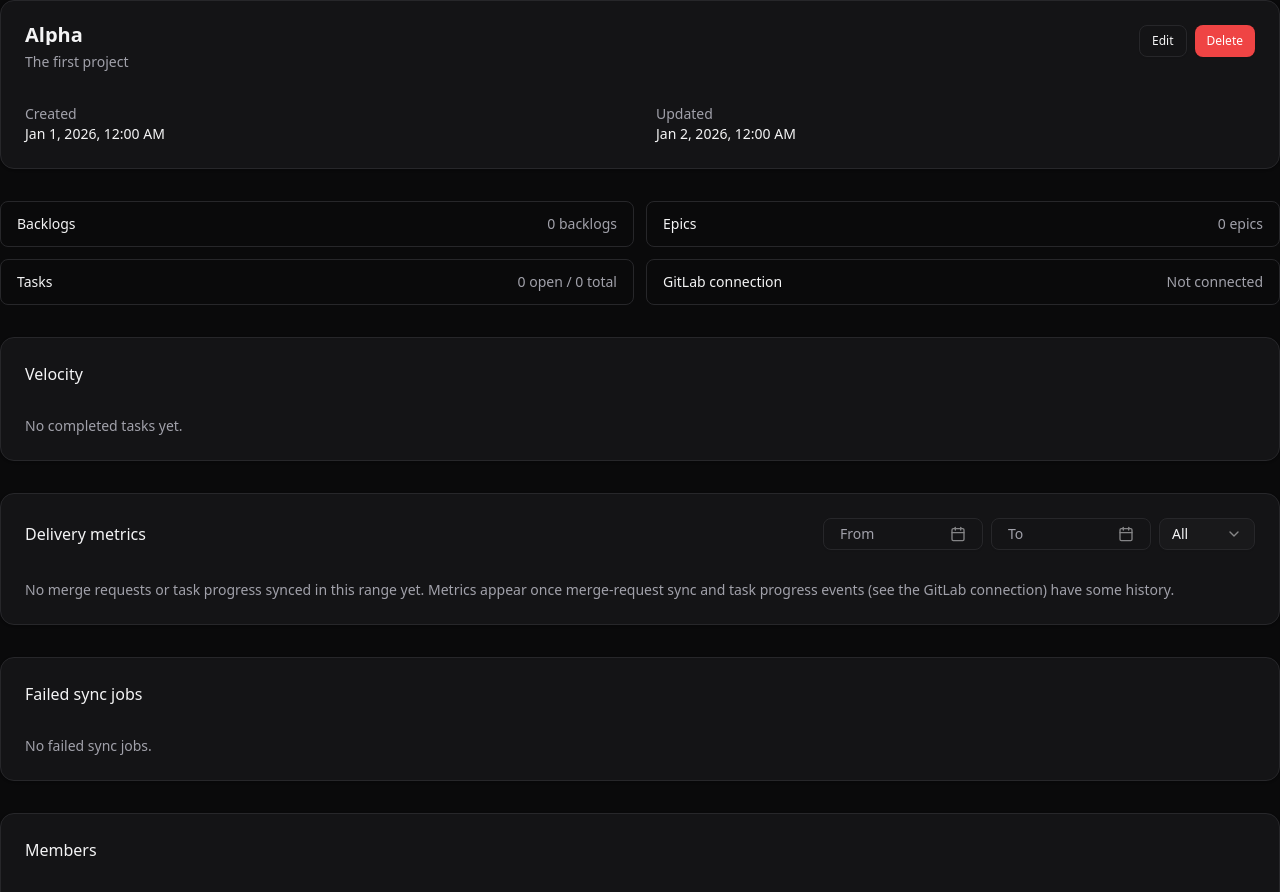
Scenario: ProjectDetail › switches to the edit form and shows saved changes
Click the button "Edit" at {"x": 1163, "y": 41}, box [1139,25,1186,57]
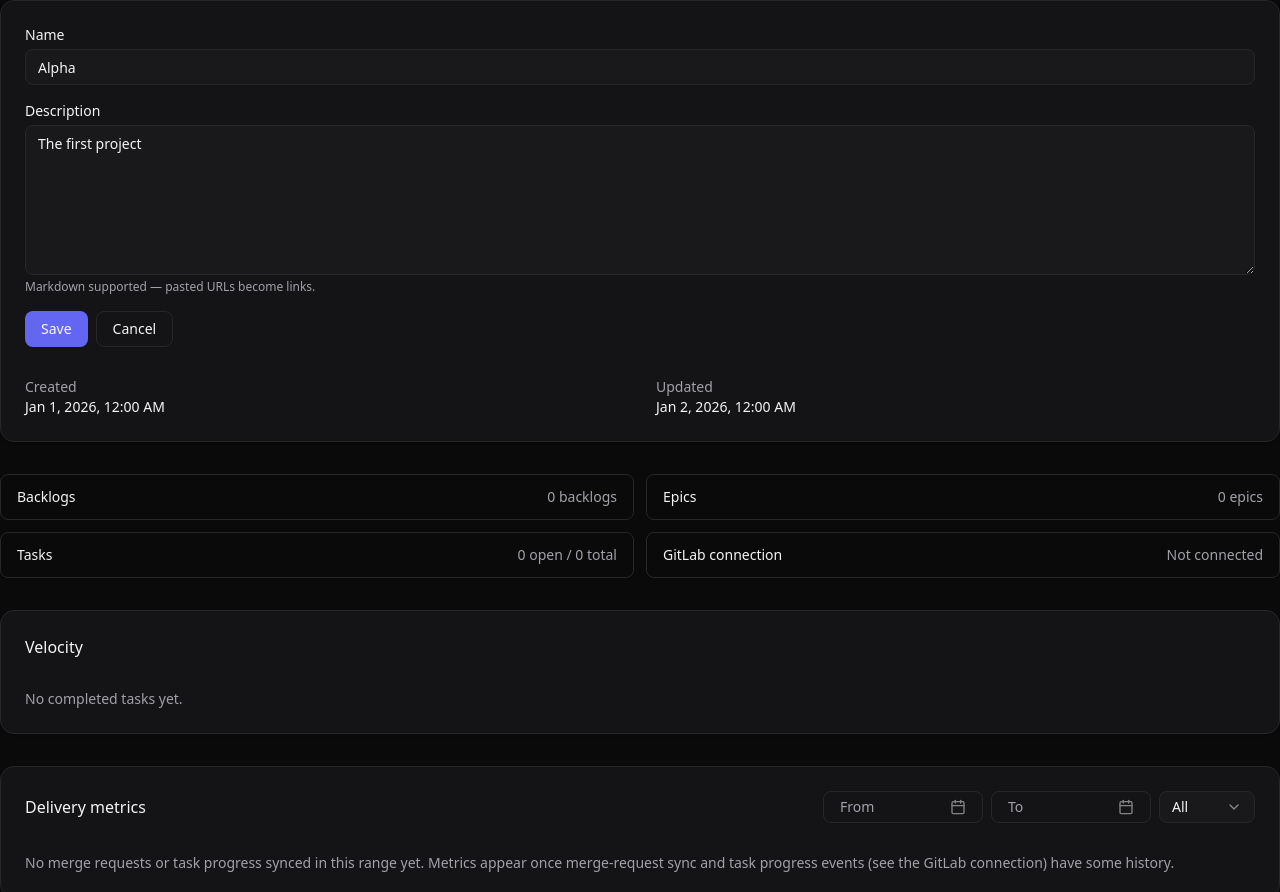
Replace the text in the field labelled "Name" with "Renamed" at {"x": 640, "y": 67}, box [25,49,1255,85]
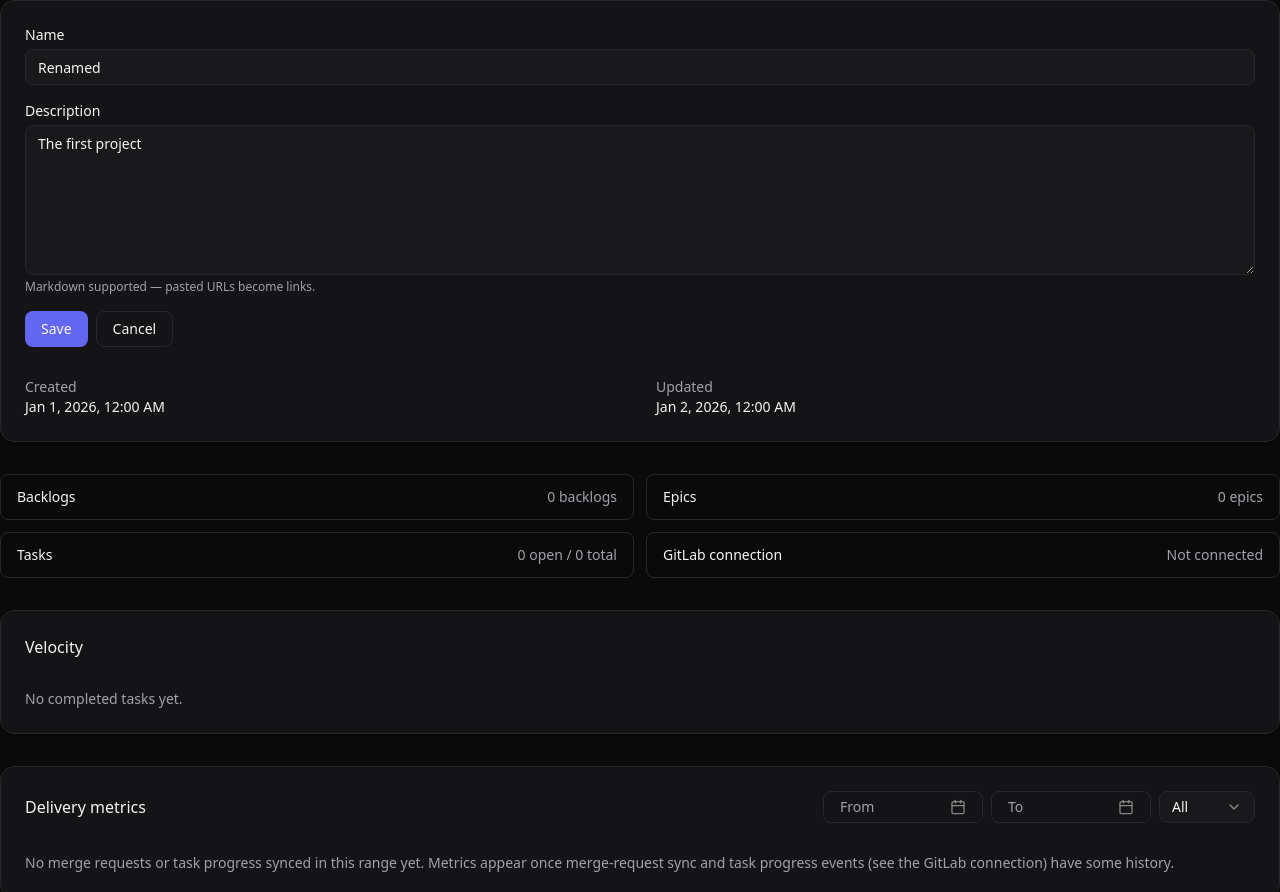
Click the button "Save" at {"x": 56, "y": 329}, box [25,311,88,347]
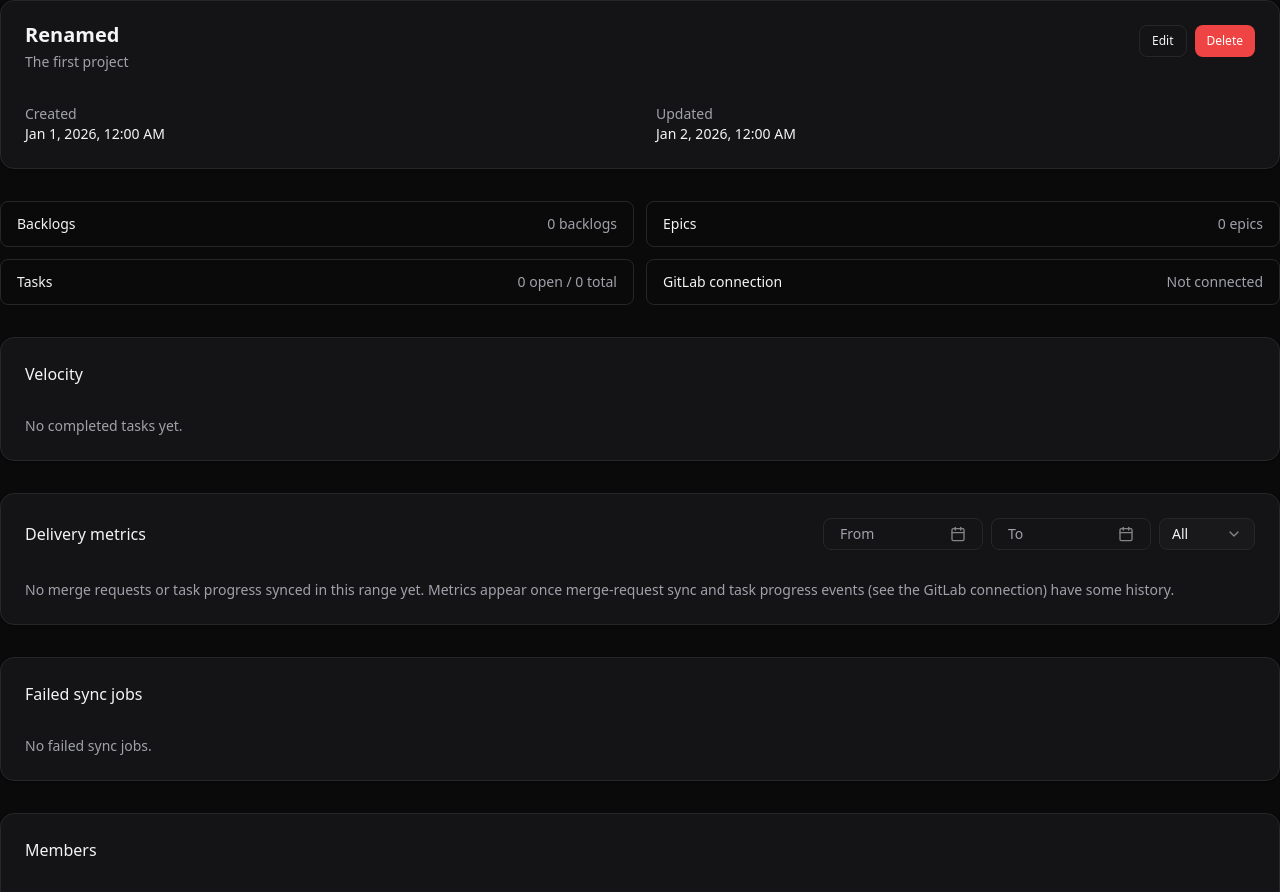
Expected: the heading "Renamed" is shown, [25,21,119,48]
